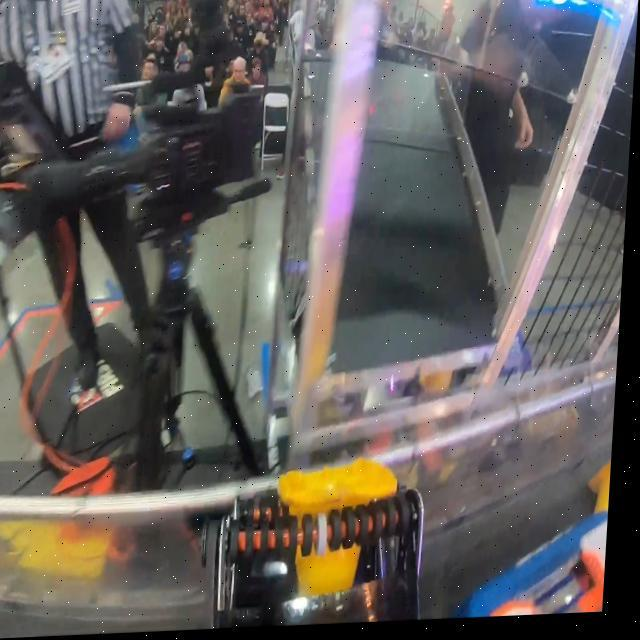robot: (459, 508, 608, 618)
